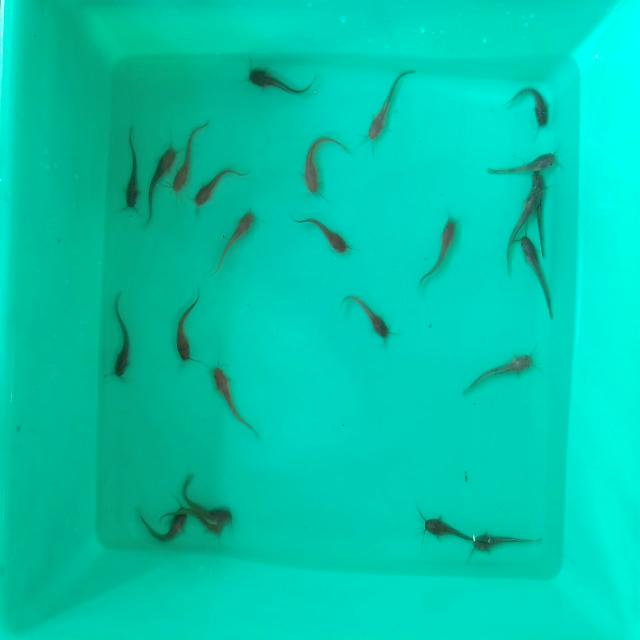lele: (368, 66, 414, 143), (520, 235, 558, 325), (212, 363, 259, 434), (289, 209, 353, 258), (302, 135, 350, 195), (184, 468, 239, 518), (468, 352, 535, 393), (345, 287, 395, 341), (215, 212, 260, 272), (417, 216, 460, 278), (501, 188, 535, 266), (144, 147, 175, 223), (196, 165, 252, 206), (508, 82, 552, 130), (134, 503, 186, 542), (245, 67, 320, 94), (160, 508, 227, 538), (123, 122, 143, 217), (111, 296, 134, 378), (173, 123, 200, 190), (421, 510, 472, 545), (470, 529, 537, 555), (482, 149, 556, 172), (534, 170, 553, 255), (176, 293, 198, 366)
